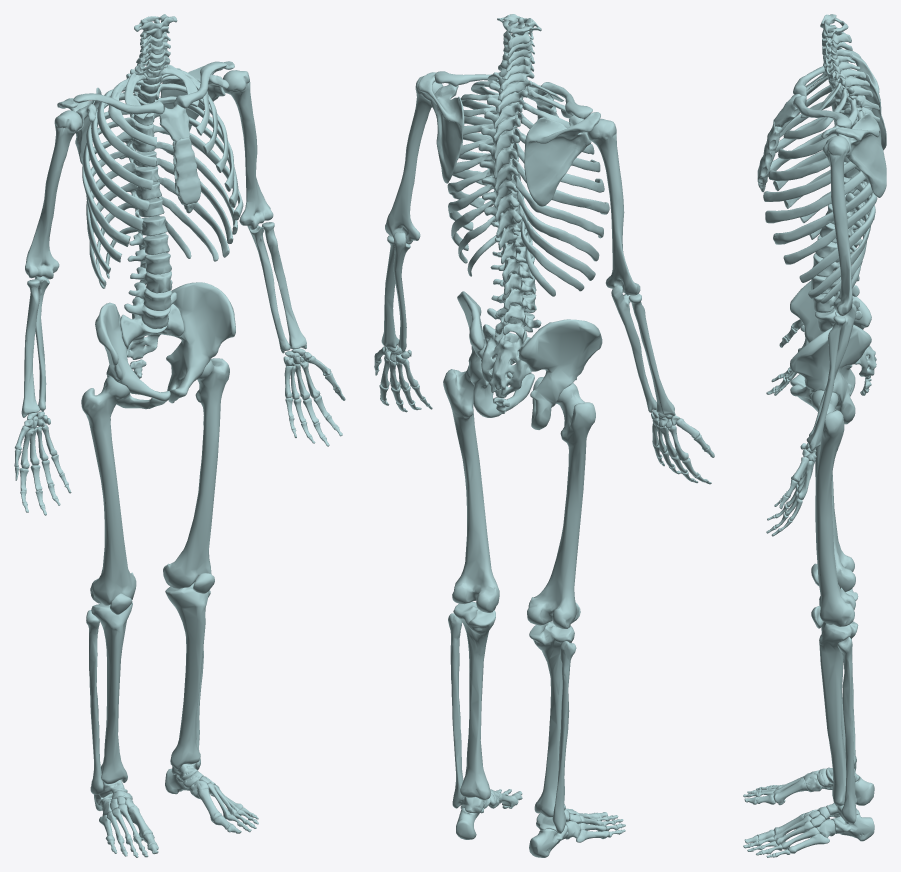
The model's file is z-anatomy-1.2.0-skeletal.glb.
The picture shows the model from 3 angles, left to right: view 1: azimuth 30°, elevation 25°; view 2: azimuth 150°, elevation 25°; view 3: azimuth 270°, elevation 25°; orthographic projection. The views are drawn at different scales.
Visible parts, largest first — view 1: appendicular-skeleton-femur-right__Femur.r, appendicular-skeleton-femur-left__Femur.l, skeleton-hip-bone-left__Hip bone.l, appendicular-skeleton-tibia-left__Tibia.l, appendicular-skeleton-tibia-right__Tibia.r, appendicular-skeleton-humerus-right__Humerus.r, appendicular-skeleton-humerus-left__Humerus.l, skeleton-hip-bone-right__Hip bone.r, skeleton-sacrum__Sacrum, appendicular-skeleton-fibula-right__Fibula.r, skeleton-body-of-sternum__Body of sternum, appendicular-skeleton-radius-right__Radius.r (+25 smaller); view 2: appendicular-skeleton-femur-right__Femur.r, appendicular-skeleton-femur-left__Femur.l, skeleton-hip-bone-right__Hip bone.r, appendicular-skeleton-scapula-right__Scapula.r, appendicular-skeleton-tibia-left__Tibia.l, appendicular-skeleton-tibia-right__Tibia.r, appendicular-skeleton-humerus-right__Humerus.r, appendicular-skeleton-humerus-left__Humerus.l, appendicular-skeleton-scapula-left__Scapula.l, skeleton-hip-bone-left__Hip bone.l, skeleton-sacrum__Sacrum, appendicular-skeleton-fibula-left__Fibula.l (+14 smaller); view 3: appendicular-skeleton-femur-left__Femur.l, appendicular-skeleton-tibia-left__Tibia.l, skeleton-hip-bone-left__Hip bone.l, appendicular-skeleton-humerus-left__Humerus.l, appendicular-skeleton-scapula-left__Scapula.l, appendicular-skeleton-fibula-left__Fibula.l, skeleton-hip-bone-right__Hip bone.r, appendicular-skeleton-radius-left__Radius.l, appendicular-skeleton-femur-right__Femur.r, skeleton-seventh-rib-left__Seventh rib.l, skeleton-sixth-rib-left__Sixth rib.l, skeleton-eighth-rib-left__Eighth rib.l (+27 smaller).
Boxes of the visible parts, left/top/right/bottom form: appendicular-skeleton-femur-right__Femur.r: left=81, top=376, right=136, bottom=605; appendicular-skeleton-femur-left__Femur.l: left=163, top=358, right=229, bottom=588; skeleton-hip-bone-left__Hip bone.l: left=166, top=282, right=235, bottom=403; appendicular-skeleton-tibia-left__Tibia.l: left=165, top=582, right=209, bottom=769; appendicular-skeleton-tibia-right__Tibia.r: left=91, top=602, right=132, bottom=784; appendicular-skeleton-humerus-right__Humerus.r: left=25, top=110, right=82, bottom=279; appendicular-skeleton-humerus-left__Humerus.l: left=222, top=70, right=273, bottom=229; skeleton-hip-bone-right__Hip bone.r: left=95, top=302, right=170, bottom=409; skeleton-sacrum__Sacrum: left=120, top=304, right=184, bottom=359; appendicular-skeleton-fibula-right__Fibula.r: left=86, top=610, right=103, bottom=794; skeleton-body-of-sternum__Body of sternum: left=172, top=137, right=201, bottom=205; appendicular-skeleton-radius-right__Radius.r: left=21, top=279, right=40, bottom=417; appendicular-skeleton-femur-right__Femur.r: left=527, top=383, right=595, bottom=628; appendicular-skeleton-femur-left__Femur.l: left=443, top=365, right=499, bottom=612; skeleton-hip-bone-right__Hip bone.r: left=518, top=319, right=602, bottom=429; appendicular-skeleton-scapula-right__Scapula.r: left=524, top=112, right=600, bottom=206; appendicular-skeleton-tibia-left__Tibia.l: left=453, top=601, right=495, bottom=799; appendicular-skeleton-tibia-right__Tibia.r: left=529, top=621, right=574, bottom=817; appendicular-skeleton-humerus-right__Humerus.r: left=587, top=118, right=640, bottom=295; appendicular-skeleton-humerus-left__Humerus.l: left=385, top=75, right=442, bottom=244; appendicular-skeleton-scapula-left__Scapula.l: left=418, top=72, right=464, bottom=183; skeleton-hip-bone-left__Hip bone.l: left=457, top=291, right=534, bottom=417; skeleton-sacrum__Sacrum: left=481, top=324, right=531, bottom=397; appendicular-skeleton-fibula-left__Fibula.l: left=448, top=613, right=464, bottom=808; appendicular-skeleton-femur-left__Femur.l: left=811, top=390, right=855, bottom=626; appendicular-skeleton-tibia-left__Tibia.l: left=819, top=621, right=858, bottom=806; skeleton-hip-bone-left__Hip bone.l: left=790, top=324, right=871, bottom=424; appendicular-skeleton-humerus-left__Humerus.l: left=822, top=136, right=852, bottom=315; appendicular-skeleton-scapula-left__Scapula.l: left=821, top=113, right=886, bottom=197; appendicular-skeleton-fibula-left__Fibula.l: left=837, top=637, right=856, bottom=823; skeleton-hip-bone-right__Hip bone.r: left=790, top=281, right=871, bottom=396; appendicular-skeleton-radius-left__Radius.l: left=806, top=315, right=845, bottom=451; appendicular-skeleton-femur-right__Femur.r: left=815, top=440, right=855, bottom=591; skeleton-seventh-rib-left__Seventh rib.l: left=773, top=182, right=872, bottom=244; skeleton-sixth-rib-left__Sixth rib.l: left=765, top=171, right=865, bottom=223; skeleton-eighth-rib-left__Eighth rib.l: left=783, top=167, right=877, bottom=264.
Size of the model in its own units: 0.6692 by 1.54 by 0.2501.
